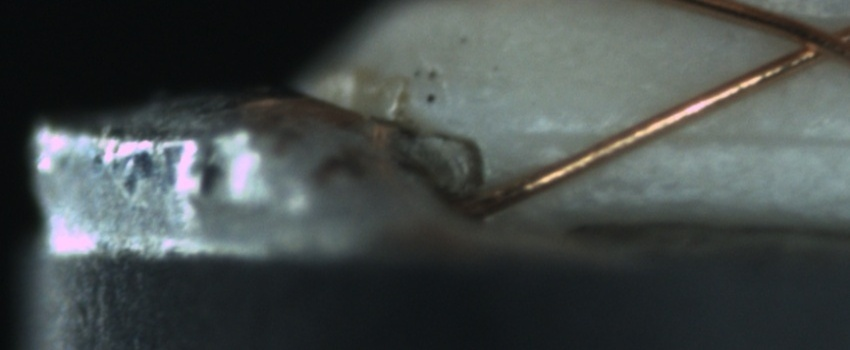CL: (774, 13, 849, 72)
DL: (527, 108, 849, 165)
